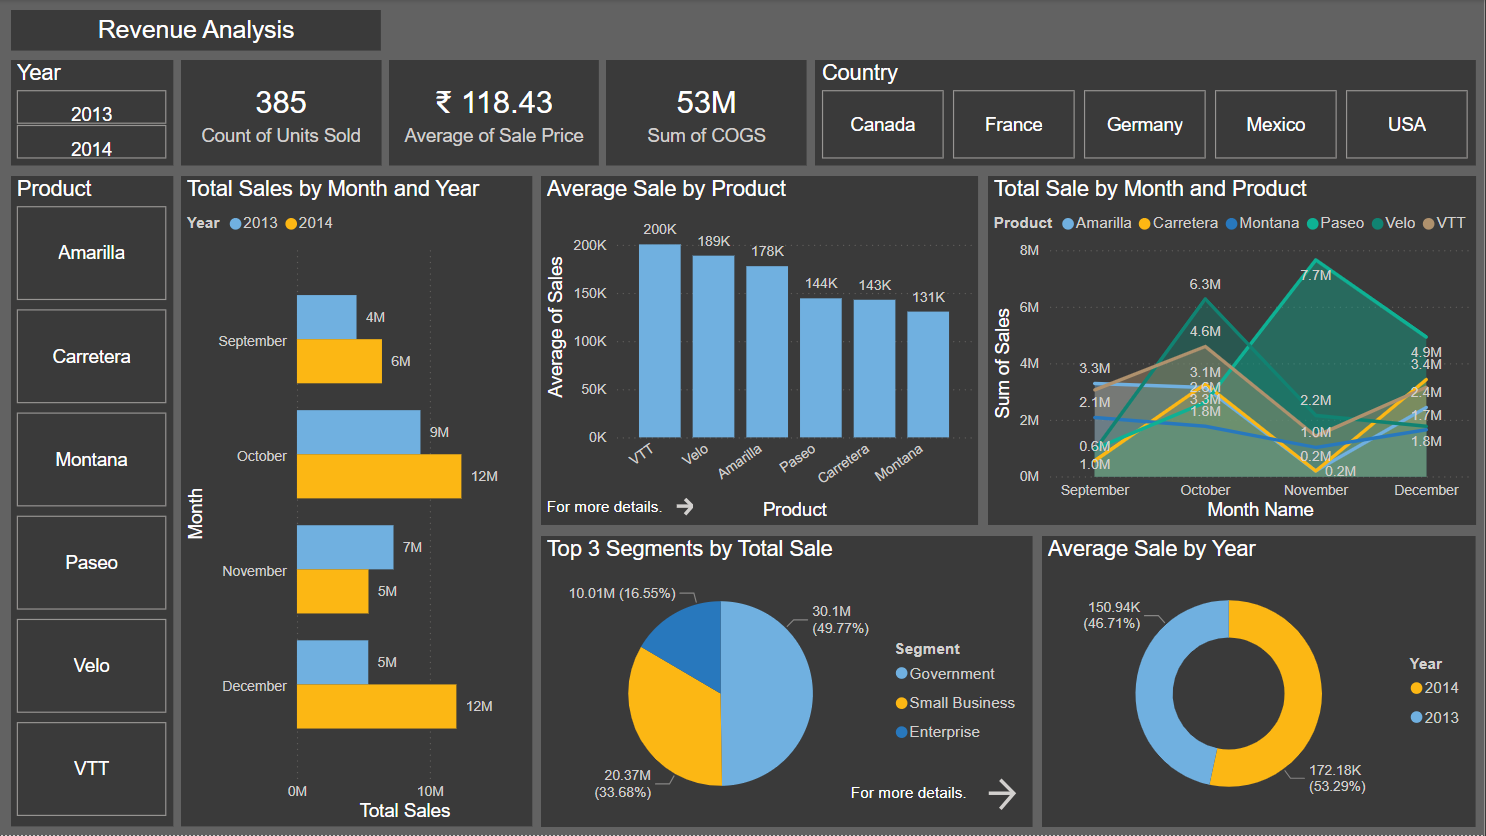

This screenshot's page, from the dashboard's own definition file:
{"tool":"powerbi","page":{"name":"Page 1","canvas":[1280,720],"ordinal":0},"visuals":[{"type":"advancedSlicerVisual","fields":{"Values":["Sheet1.Year"]},"box":[9.6,51.5,139.8,90.9],"z":0},{"type":"advancedSlicerVisual","fields":{"Values":["Sheet1.Country"]},"box":[703.3,51.5,569.7,90.9],"z":1000},{"type":"advancedSlicerVisual","fields":{"Values":["Sheet1.Product"]},"box":[9.6,152,139.8,560.9],"z":2000},{"type":"donutChart","title":"Average Sale by Year","fields":{"Y":["Avg(Sheet1. Sales)"],"Category":["Sheet1.Year"]},"box":[899.1,462.2,374,250.8],"z":3000},{"type":"pieChart","title":"Total Sale by Segment","fields":{"Category":["Sheet1.Segment"],"Y":["Sum(Sheet1. Sales)"]},"box":[466.6,462.2,423.8,250.8],"z":4000},{"type":"areaChart","title":"Total Sale by Month and Product","fields":{"Category":["Sheet1.Month Name"],"Y":["Sum(Sheet1. Sales)"],"Series":["Sheet1.Product"]},"box":[851.9,152,421.1,301.4],"z":5000},{"type":"card","title":"Total Units Sold","fields":{"Values":["CountNonNull(Sheet1.Units Sold)"]},"box":[156.1,51.8,172.5,90.6],"z":6000},{"type":"card","fields":{"Values":["Avg(Sheet1.Sale Price)"]},"box":[335.5,51.8,181.1,90.6],"z":7000},{"type":"clusteredBarChart","title":"Total Sales by Month and Year","fields":{"Category":["Sheet1.Month Name"],"Y":["Sum(Sheet1. Sales)"],"Series":["Sheet1.Year"]},"box":[156.4,152,303.2,560.9],"z":8000},{"type":"columnChart","title":"Average Sale by Product","fields":{"Y":["Avg(Sheet1. Sales)"],"Category":["Sheet1.Product"]},"box":[466.6,152,376.6,301.4],"z":9000},{"type":"card","fields":{"Values":["Sum(Sheet1.COGS)"]},"box":[522.7,51.8,173.4,90.6],"z":10000},{"type":"actionButton","box":[843.2,666.9,40.3,36.7],"z":11000},{"type":"textbox","box":[728.6,671.3,123.5,28.6],"z":12000},{"type":"textbox","box":[9.5,8.6,319.1,35.4],"z":13000},{"type":"textbox","box":[466.6,424.4,124.2,28.5],"z":15000},{"type":"actionButton","box":[578.8,424.4,23.3,25.9],"z":15500}]}

Visuals, with their boxes in screenshot pixels (x1, y1, x2, y2), scaled from the page's 1280x720 canvas onto the 1486x836 screenshot:
advancedSlicerVisual - Sheet1.Year: 11:60:173:165
advancedSlicerVisual - Sheet1.Country: 816:60:1478:165
advancedSlicerVisual - Sheet1.Product: 11:176:173:828
"Average Sale by Year" donutChart: 1044:537:1478:828
"Total Sale by Segment" pieChart: 542:537:1034:828
"Total Sale by Month and Product" areaChart: 989:176:1478:526
"Total Units Sold" card: 181:60:381:165
card - Avg(Sheet1.Sale Price): 389:60:600:165
"Total Sales by Month and Year" clusteredBarChart: 182:176:534:828
"Average Sale by Product" columnChart: 542:176:979:526
card - Sum(Sheet1.COGS): 607:60:808:165
actionButton: 979:774:1026:817
textbox: 846:779:989:813
textbox: 11:10:381:51
textbox: 542:493:686:526
actionButton: 672:493:699:523
